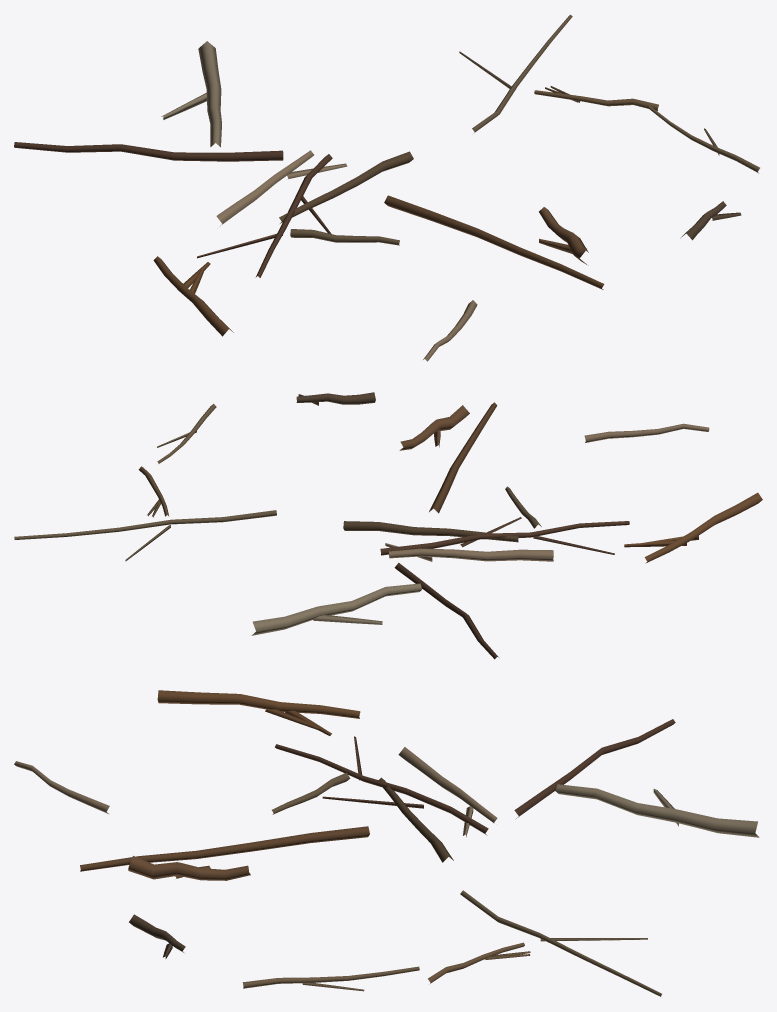
File: twigs-a.lod0.glb
3 views of the same model, one above another, from view 1: azimuth 30°, elevation 25°; view 2: azimuth 150°, elevation 25°; view 3: azimuth 270°, elevation 25° (orthographic). The views are drawn at different scales.
Bounding box in the file's own units: 1.22 × 0.0443 × 1.31.
